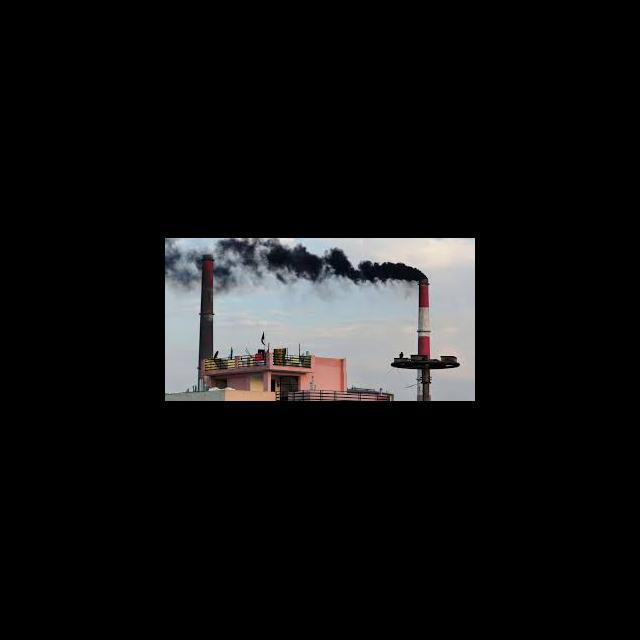Smoke: (165, 239, 427, 294)
